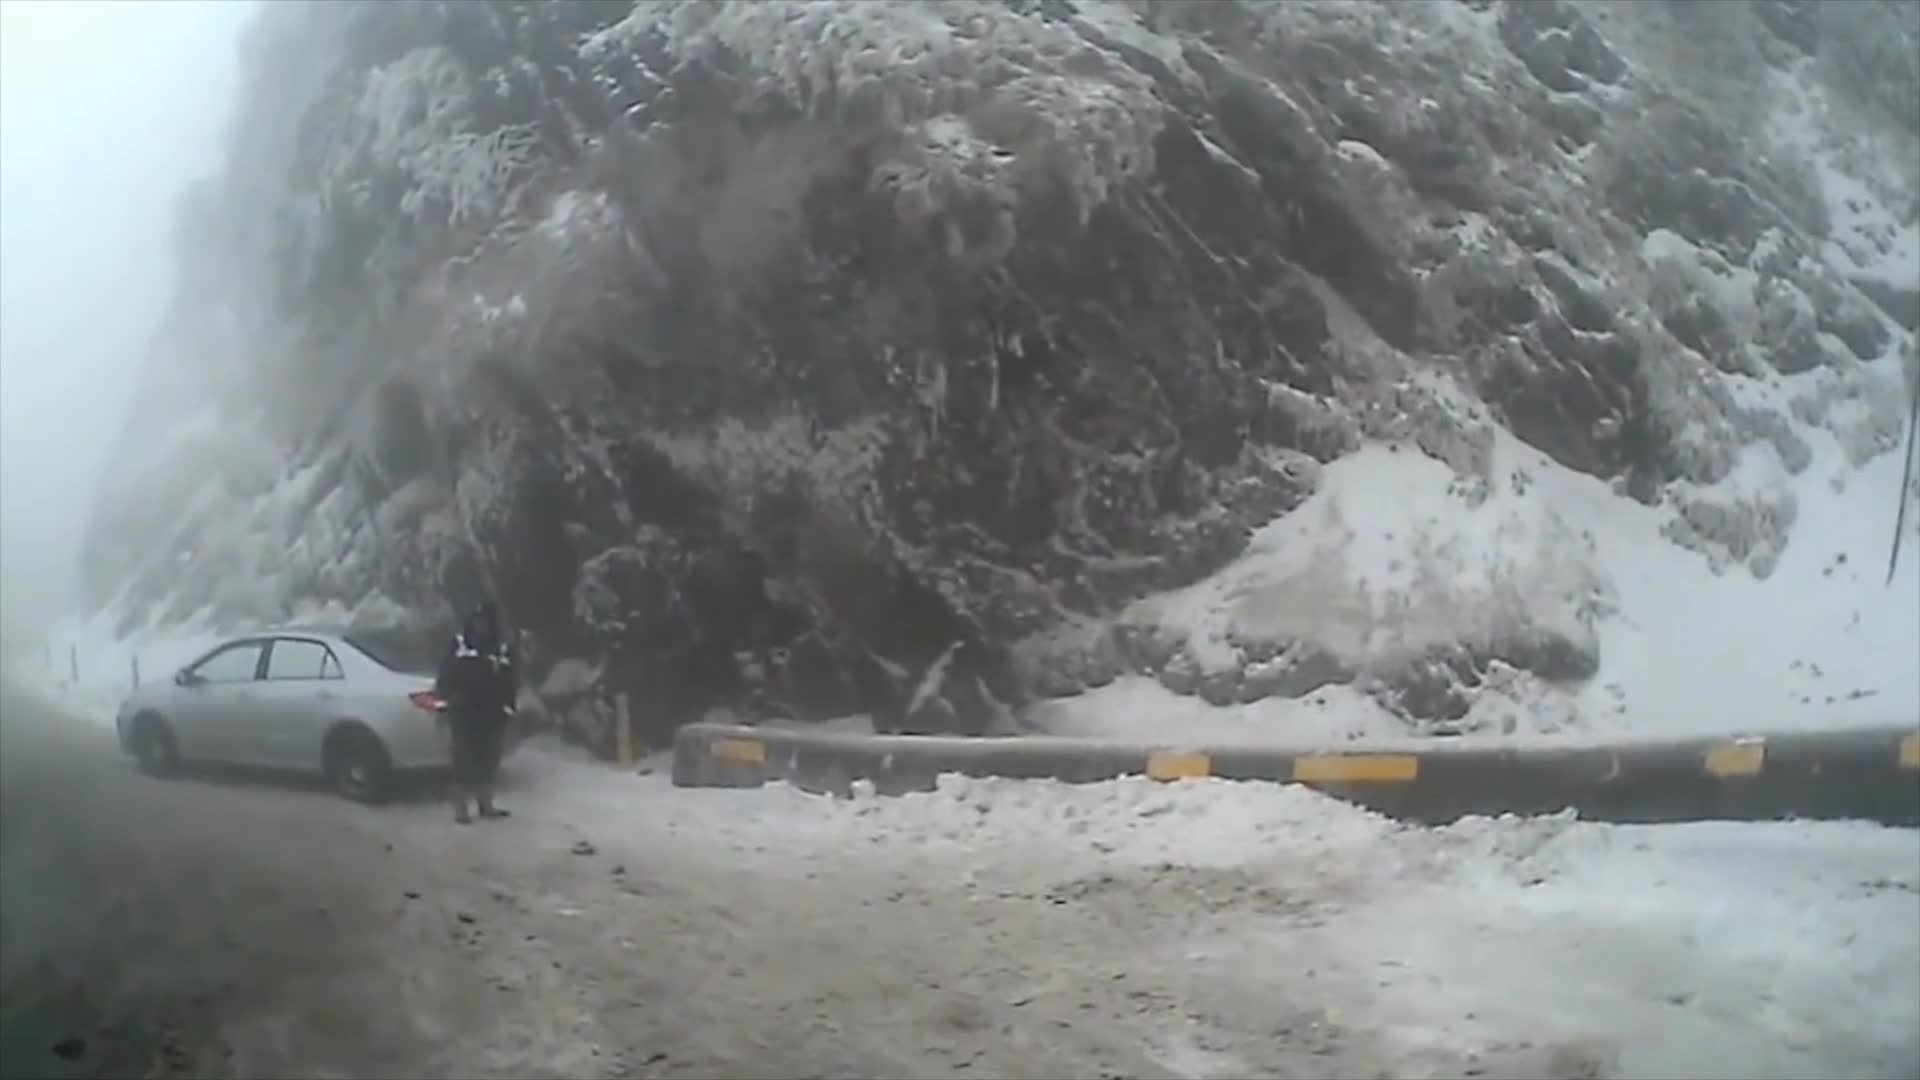pedestrian: (436, 594, 521, 822)
vehicle: (116, 620, 522, 805)
